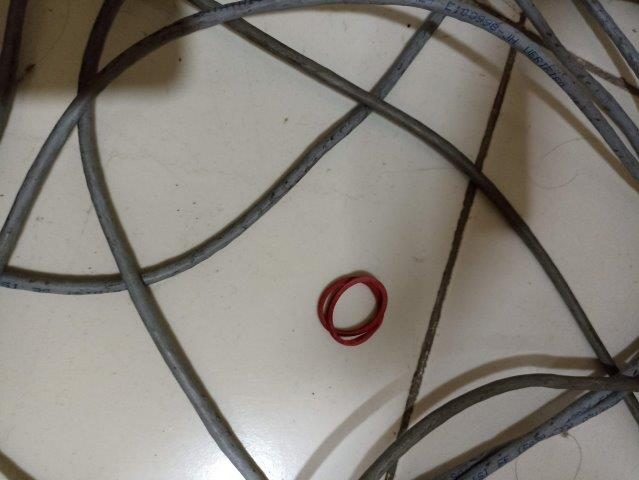karet: (318, 269, 388, 347)
